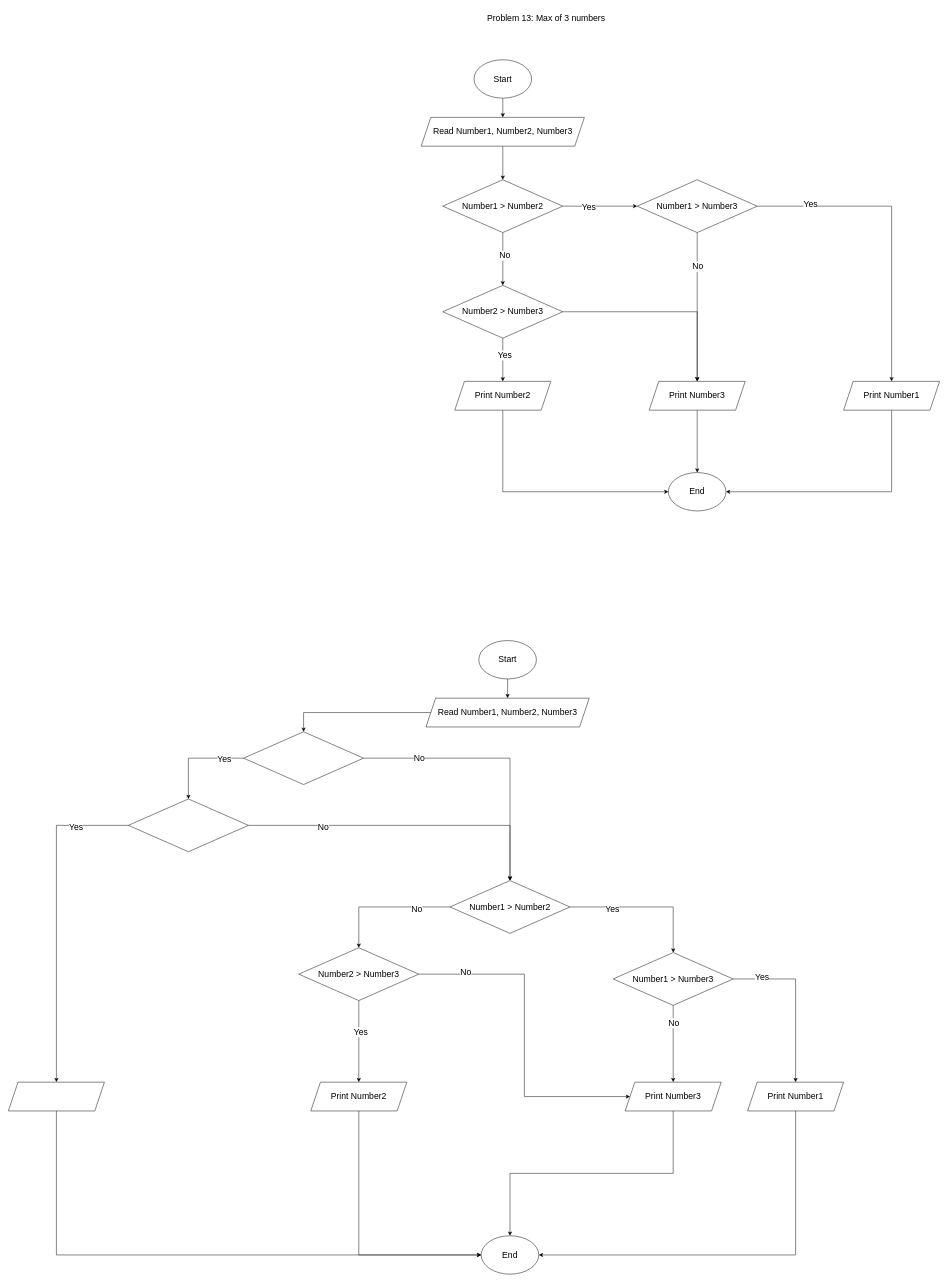
This 948x1283 diagram has some shape labels left out. Each missing label, with the centre of its shape:
"Number1 = Number2" goes at pixel 303 758.
"Number2 = Number 3" goes at pixel 188 825.
"Print Equal" goes at pixel 56 1096.
